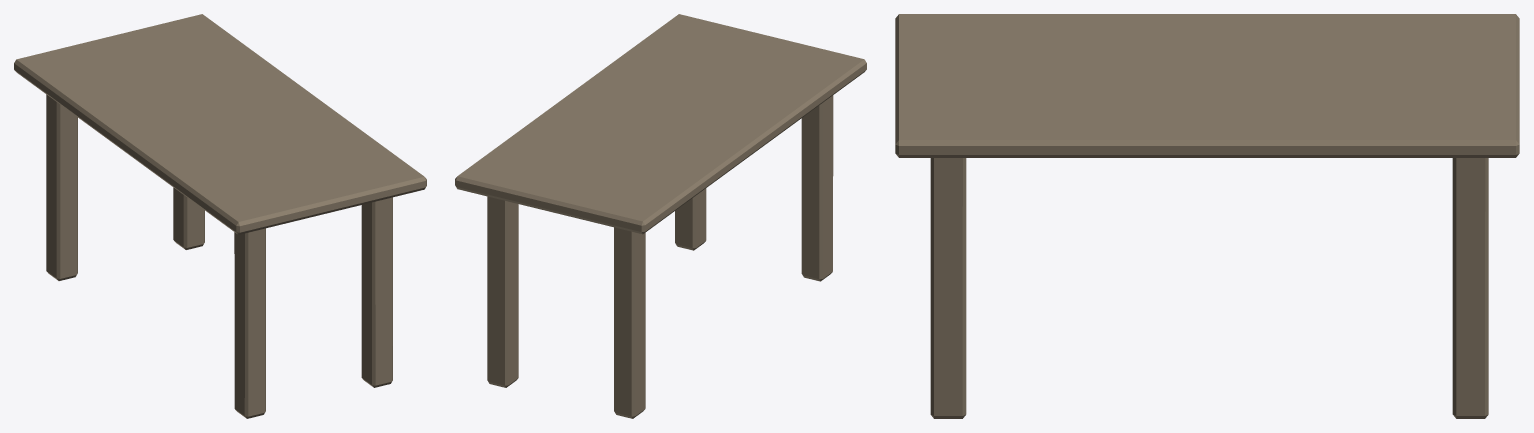
The model's file is table 1.fbx.
3 views of the same model, side by side, from view 1: azimuth 30°, elevation 25°; view 2: azimuth 150°, elevation 25°; view 3: azimuth 270°, elevation 25° (orthographic). The views are drawn at different scales.
Parts seen in each view (by area): view 1: pCube5; view 2: pCube5; view 3: pCube5.
Part boxes in pixels (x1,y1,x2,y2): pCube5: (14, 14, 426, 418); pCube5: (455, 14, 866, 418); pCube5: (895, 14, 1519, 418).
Size of the model in its own units: 1.67 by 1.77 by 3.4.
